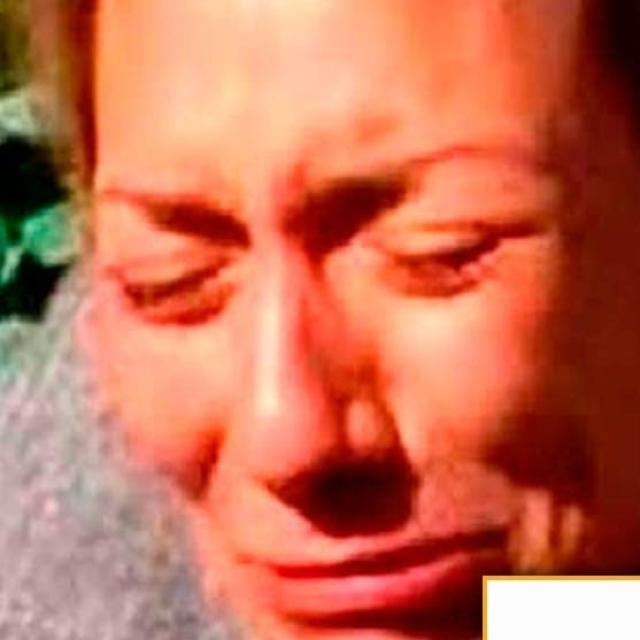Depress: (92, 0, 639, 639)
